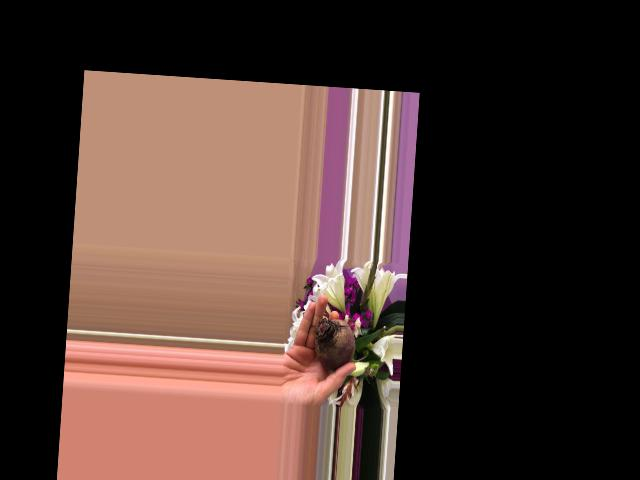beet: (312, 317, 369, 372)
